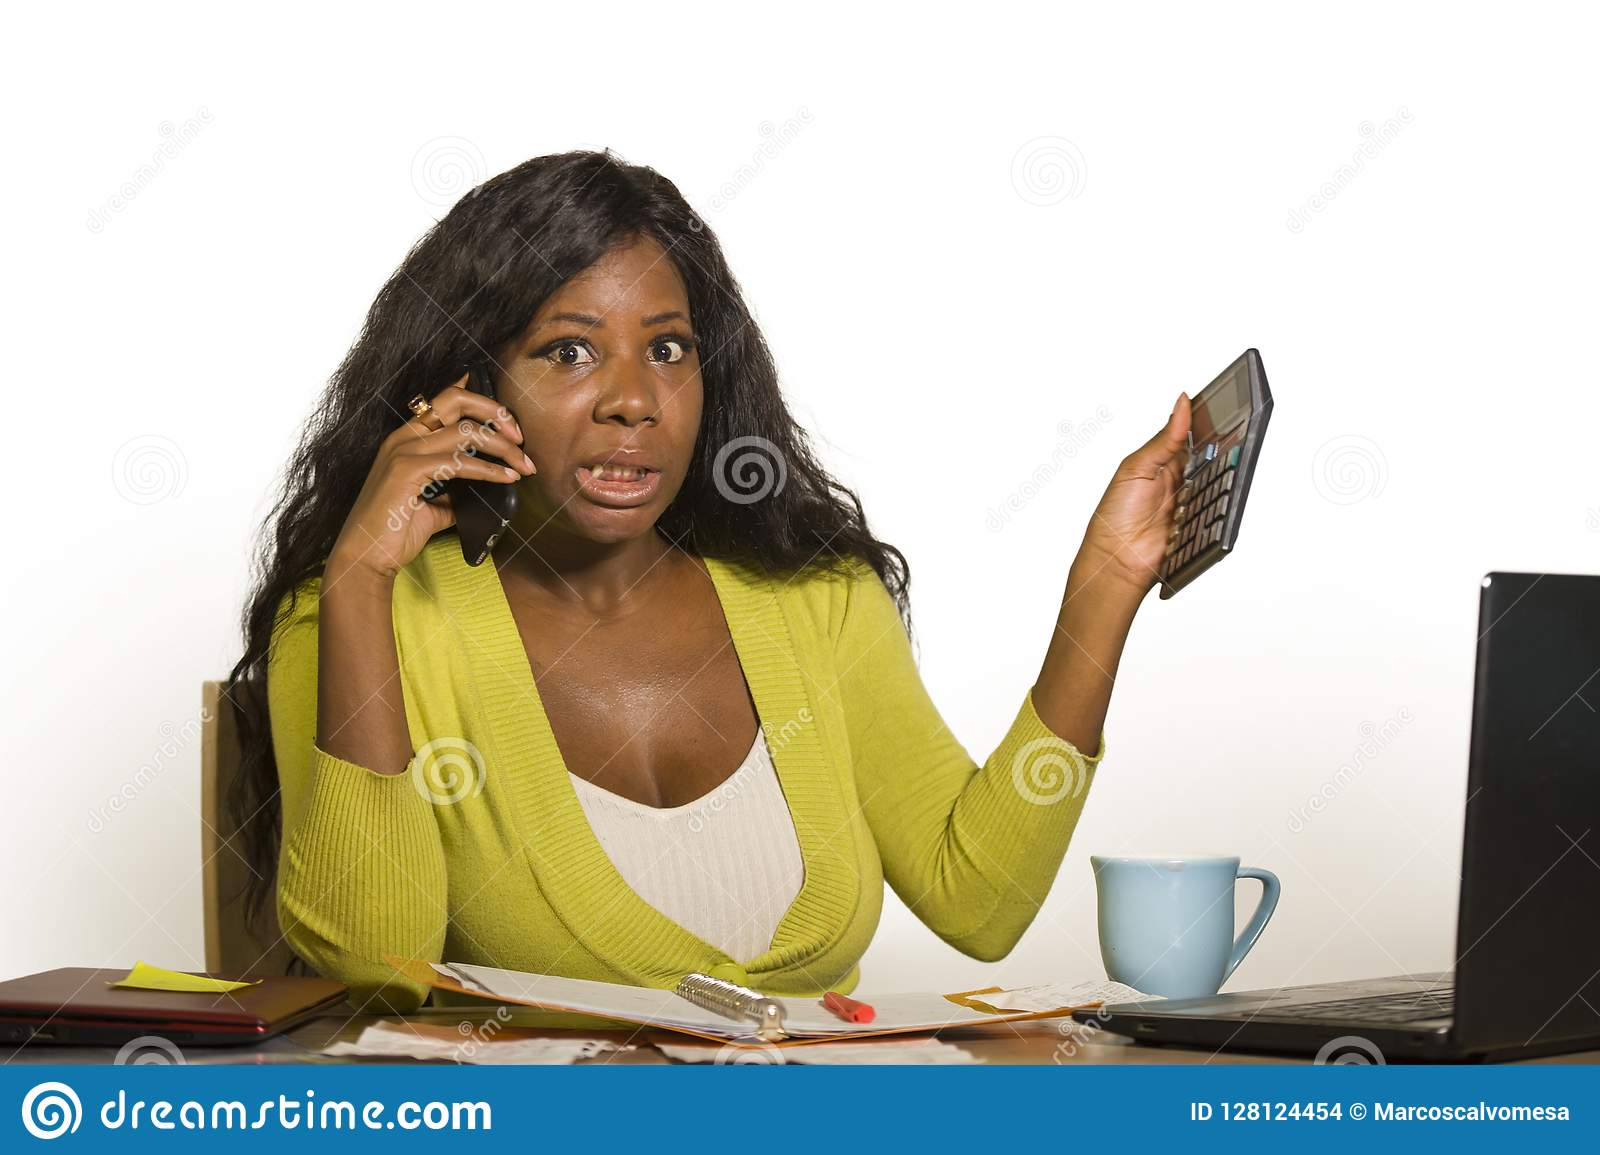phone: (442, 364, 517, 569)
talk: (320, 288, 702, 609)
